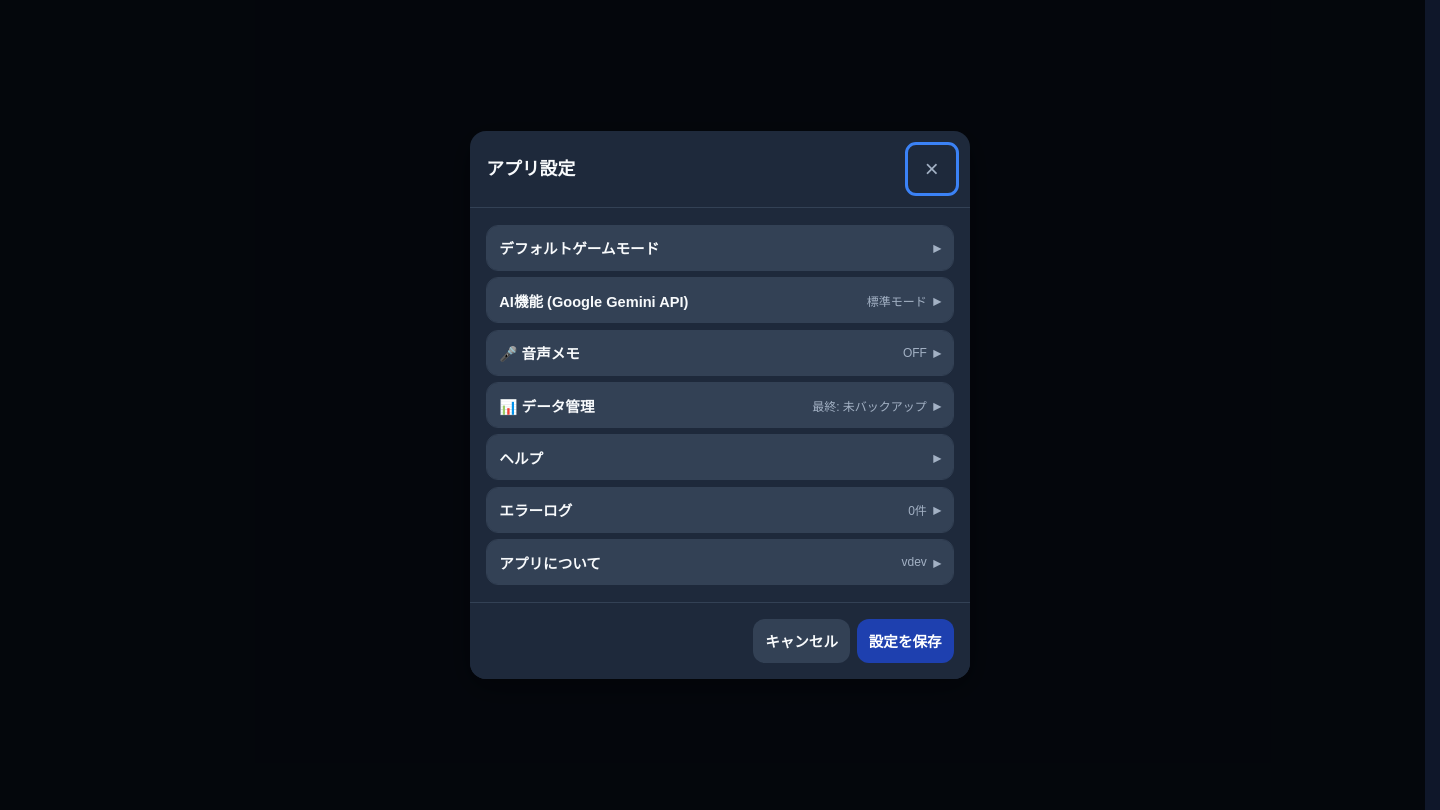
AI機能の説明 › 送信されるのが撮影画像であることを書く
Click the button "AI機能 (Google Gemini API) 標準モード ▸". click: (594, 302)
box: [487, 278, 953, 322]
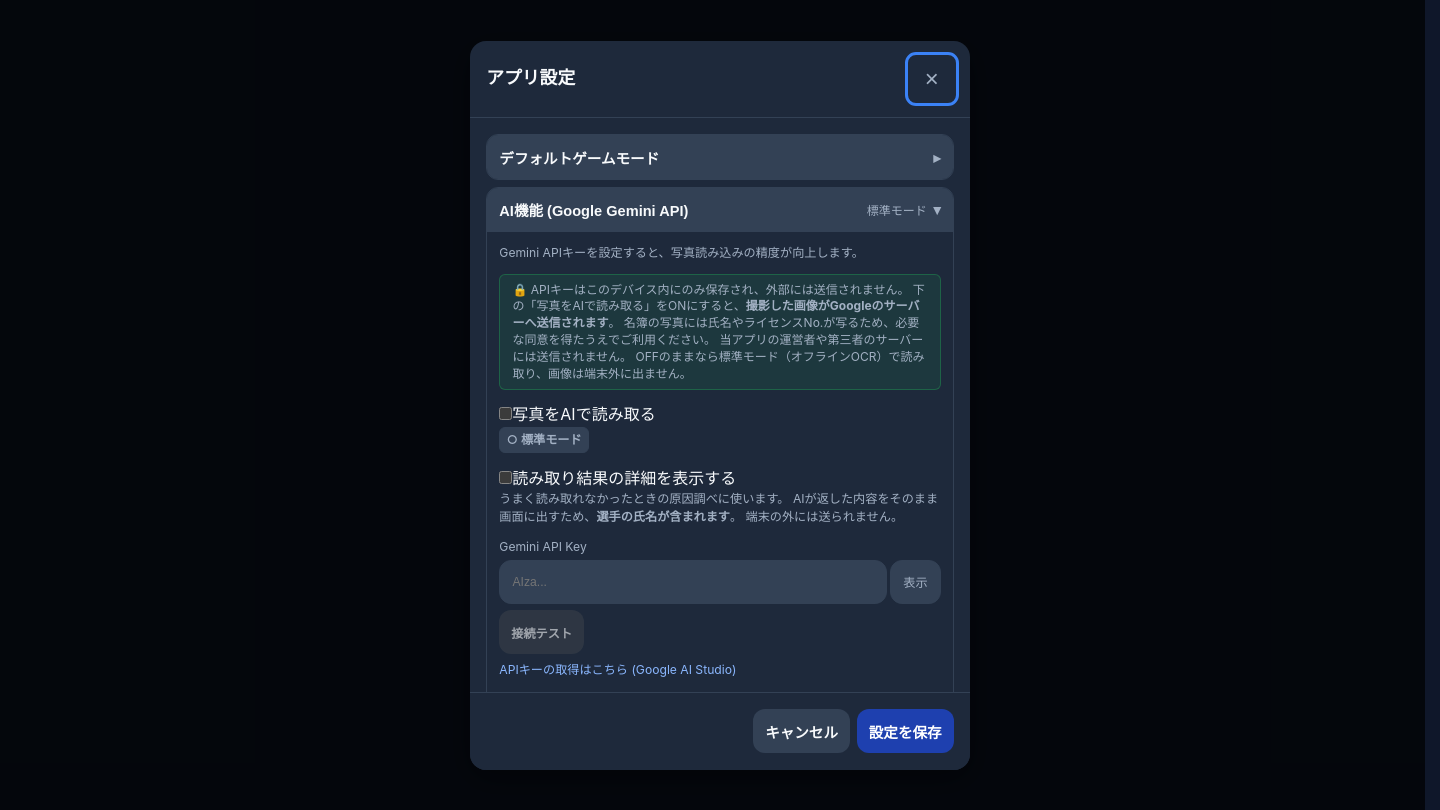
Result: the text "撮影した画像がGoogleのサーバーへ送信されます" is shown at [512, 298, 920, 330]
